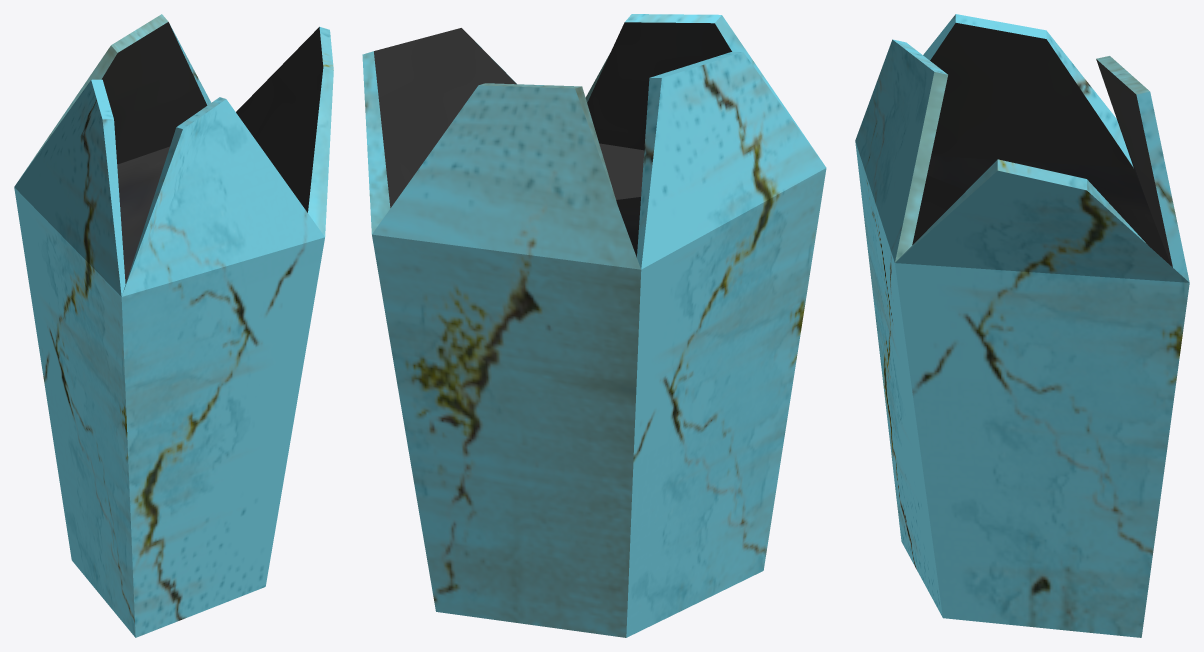
File: noodle_box_02.fbx
The picture shows the model from 3 angles, left to right: view 1: azimuth 30°, elevation 25°; view 2: azimuth 150°, elevation 25°; view 3: azimuth 270°, elevation 25°; orthographic projection. The views are drawn at different scales.
Visible parts, largest first — view 1: noodle_box_02; view 2: noodle_box_02; view 3: noodle_box_02.
Boxes of the visible parts, <box> form: noodle_box_02: <box>14,14,333,637</box>; noodle_box_02: <box>362,14,826,637</box>; noodle_box_02: <box>855,14,1189,637</box>.
Bounding box in the file's own units: 0.0901 × 0.1352 × 0.0782.
